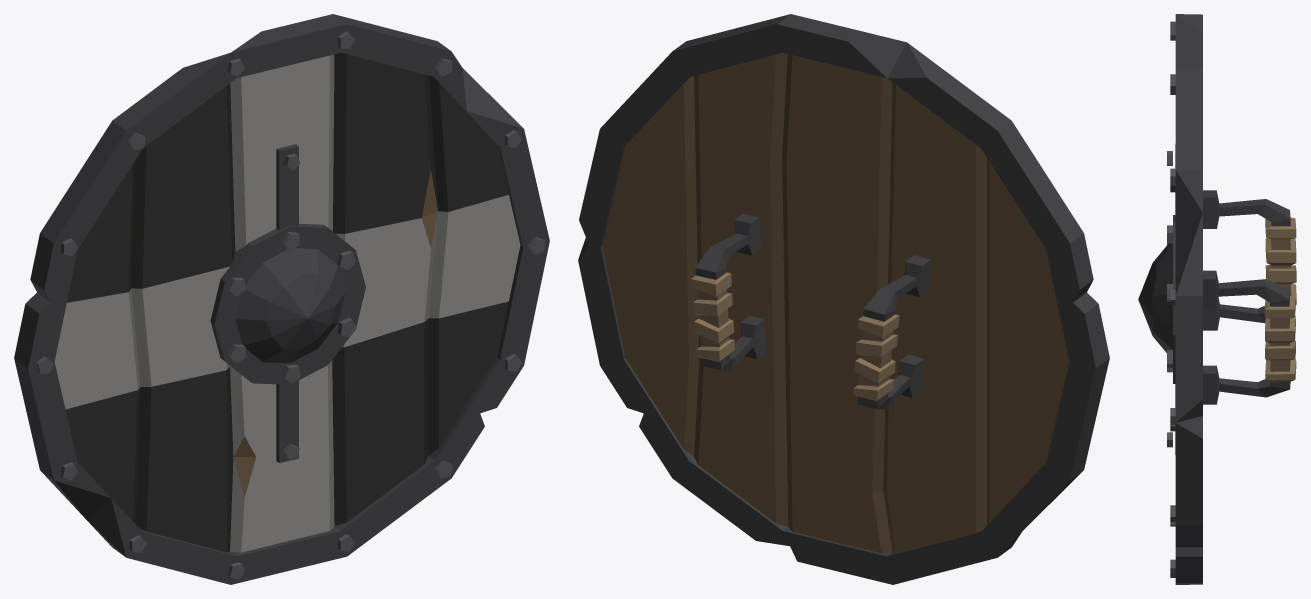
File: Escudo_02.glb
3 renders of one model, left to right at view 1: azimuth 30°, elevation 25°; view 2: azimuth 150°, elevation 25°; view 3: azimuth 270°, elevation 25°, orthographic. The views are drawn at different scales.
Parts seen in each view (by area): view 1: SM_Wep_Shield_06; view 2: SM_Wep_Shield_06; view 3: SM_Wep_Shield_06.
Boxes of the visible parts, bbox=[...] form: SM_Wep_Shield_06: bbox=[14, 14, 549, 584]; SM_Wep_Shield_06: bbox=[578, 14, 1109, 584]; SM_Wep_Shield_06: bbox=[1138, 14, 1296, 584].
Bounding box in the file's own units: 0.7578 × 0.7388 × 0.2058.
Materials: 1 (1 with a texture image).
